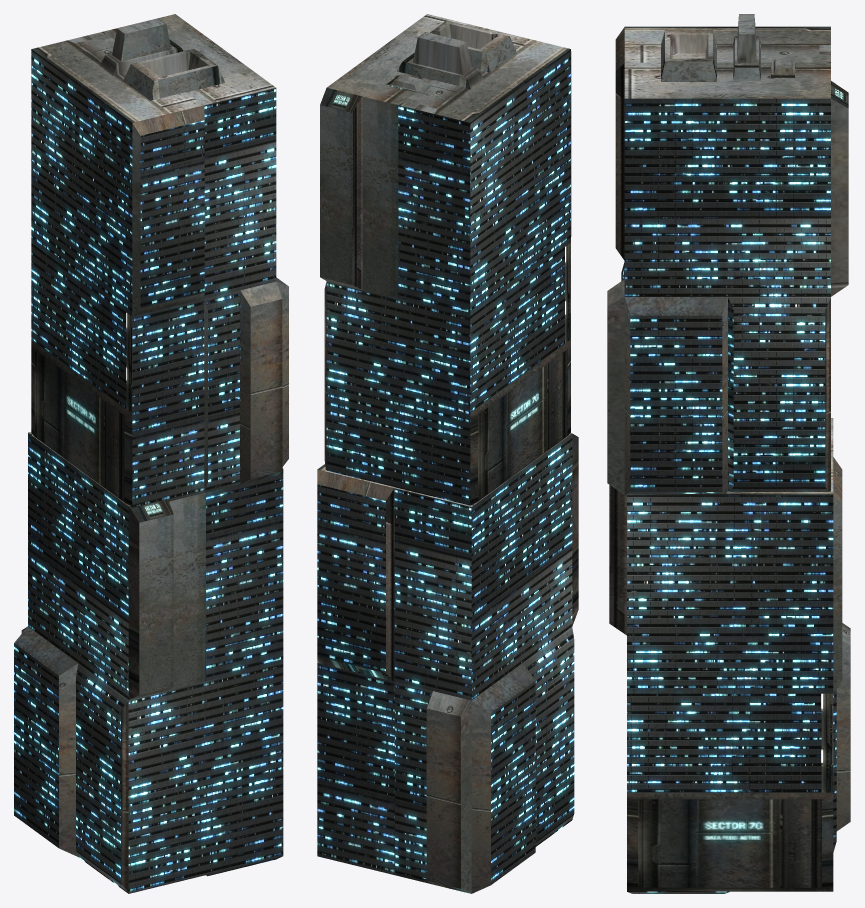
File: 2026-commercial-building-7.glb
3 renders of one model, left to right at view 1: azimuth 30°, elevation 25°; view 2: azimuth 150°, elevation 25°; view 3: azimuth 270°, elevation 25°, orthographic. The views are drawn at different scales.
Parts seen in each view (by area): view 1: 2026-commercial-building-7; view 2: 2026-commercial-building-7; view 3: 2026-commercial-building-7.
Part boxes in pixels (x1,y1,x2,y2): 2026-commercial-building-7: [14, 14, 288, 893]; 2026-commercial-building-7: [317, 14, 578, 893]; 2026-commercial-building-7: [607, 14, 850, 893].
Size of the model in its own units: 45.15 by 196 by 52.07.
1 material, 1 textured.
